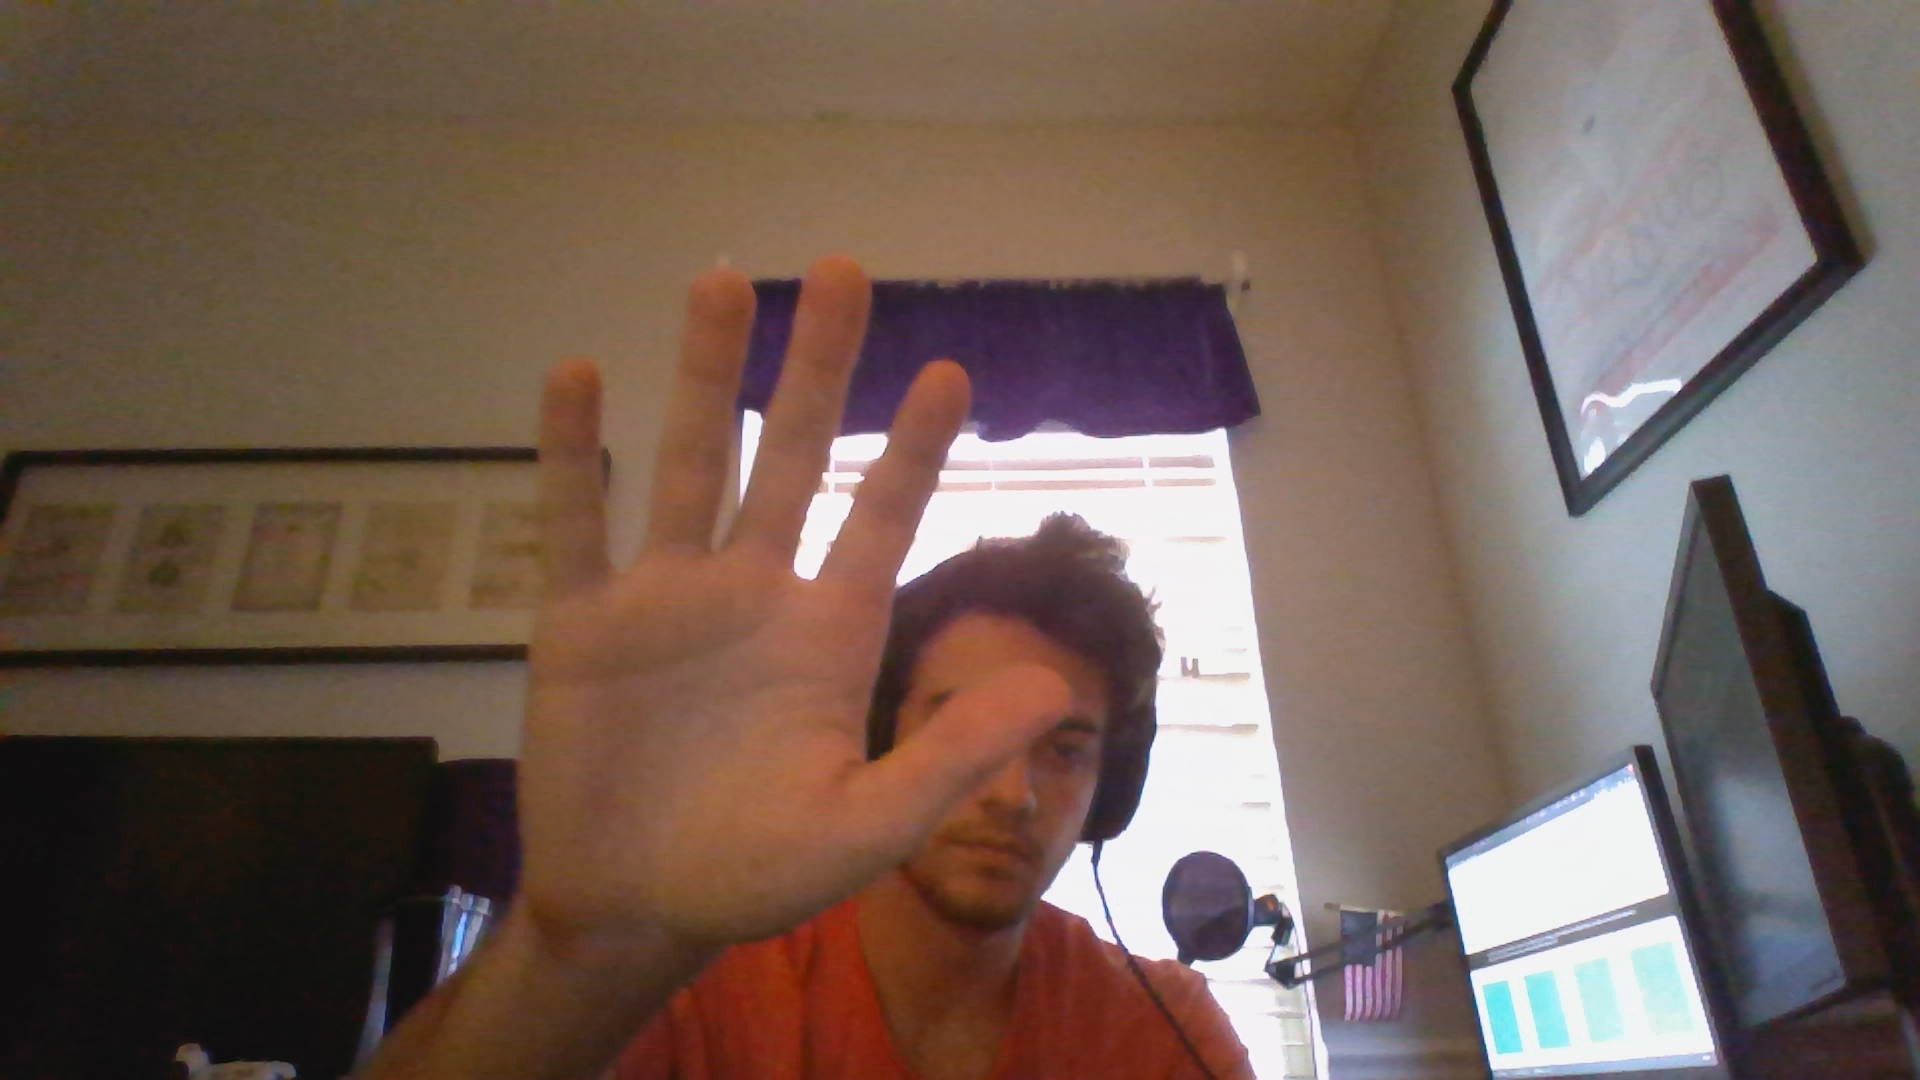Right Palm Up: (496, 247, 1071, 959)
